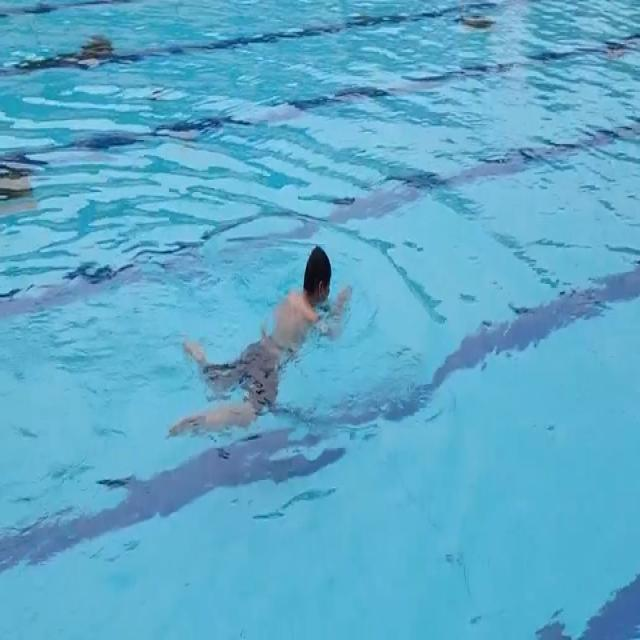Swimming: (170, 245, 354, 444)
